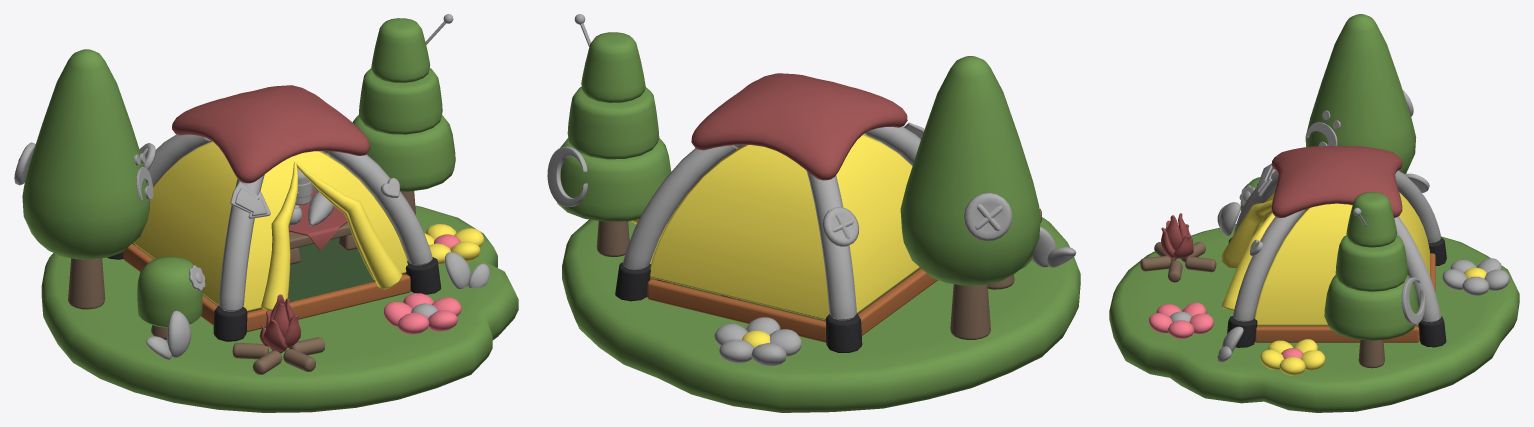
The model's file is Camp.fbx.
The picture shows the model from 3 angles, left to right: view 1: azimuth 30°, elevation 25°; view 2: azimuth 150°, elevation 25°; view 3: azimuth 270°, elevation 25°; orthographic projection. The views are drawn at different scales.
Parts seen in each view (by area): view 1: M_Camp, S_Camp, D_Camp5, D_MotorBike_17, D_Camp7, D_Camp4, D_MotorBike_20, D_MotorBike_24; view 2: M_Camp, S_Camp, D_MotorBike_24, D_MotorBike_22, D_MotorBike_30, D_Camp5; view 3: M_Camp, S_Camp, D_MotorBike_22, D_MotorBike_20, D_Camp5.
Boxes of the visible parts, x1,y1,x2,y2 form: M_Camp: (22,18,518,412); S_Camp: (123,85,483,374); D_Camp5: (167,310,191,357); D_MotorBike_17: (230,182,270,218); D_Camp7: (445,252,470,288); D_Camp4: (308,192,334,225); D_MotorBike_20: (134,153,153,200); D_MotorBike_24: (14,142,35,185); M_Camp: (557,32,1080,412); S_Camp: (631,73,1041,365); D_MotorBike_24: (964,192,1012,241); D_MotorBike_22: (547,146,587,207); D_MotorBike_30: (823,207,858,246); D_Camp5: (1031,226,1056,267); M_Camp: (1109,14,1519,412); S_Camp: (1140,146,1509,375); D_MotorBike_22: (1401,277,1425,324); D_MotorBike_20: (1306,110,1340,146); D_Camp5: (1219,202,1240,236).
Bounding box in the file's own units: 463 × 294 × 446.
